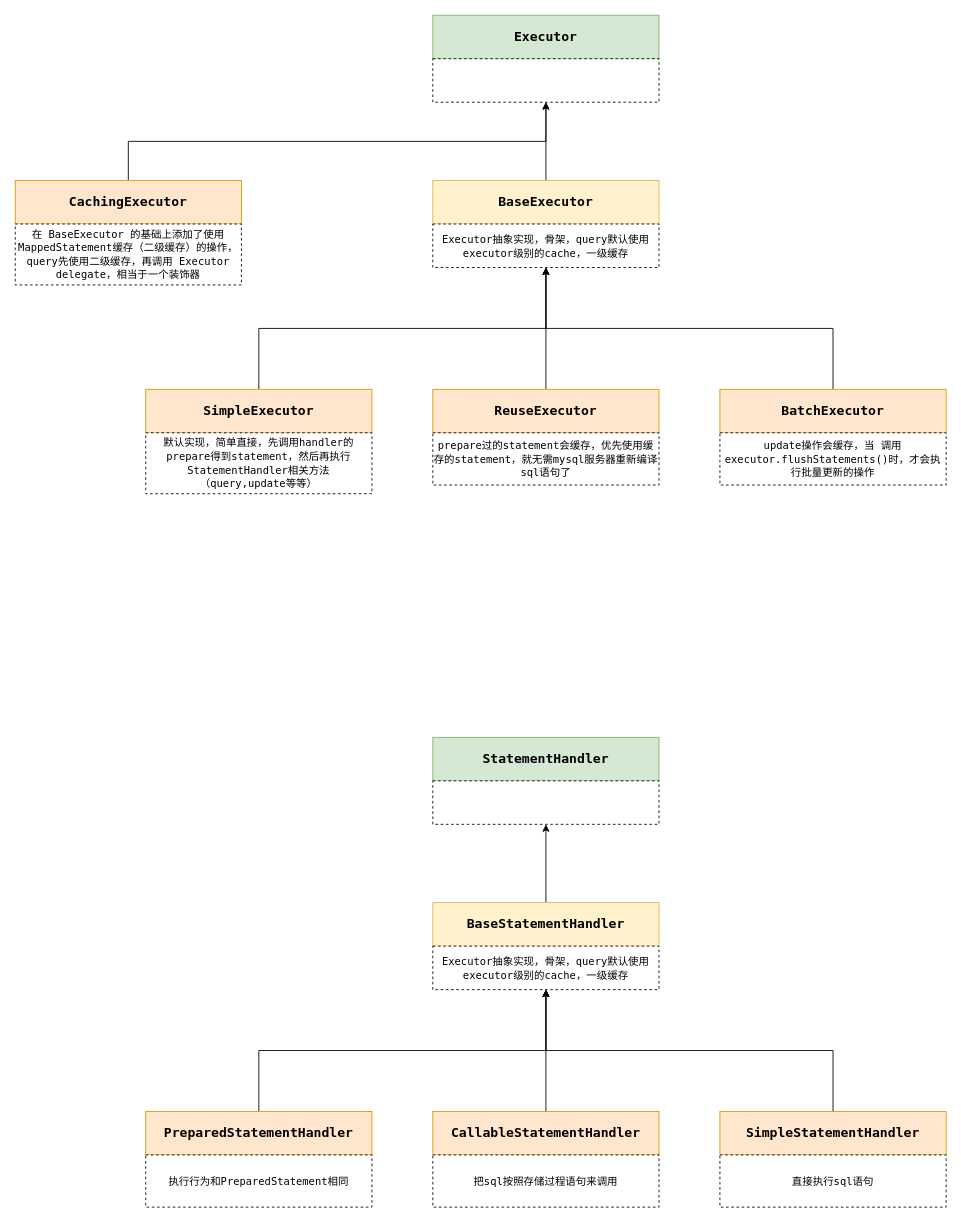
Image size: 961x1222. Some labels were removed from this diagram. The shapes that lost their labels are listed below. From the top down, each one's centre as x and y in pixels, then its label:
(545,80): SqlSession数据库操作的执行器
(545,802): 每次执行数据库操作都会根据要执行的mappedStatement新建一个StatementHandler，有多种类型
